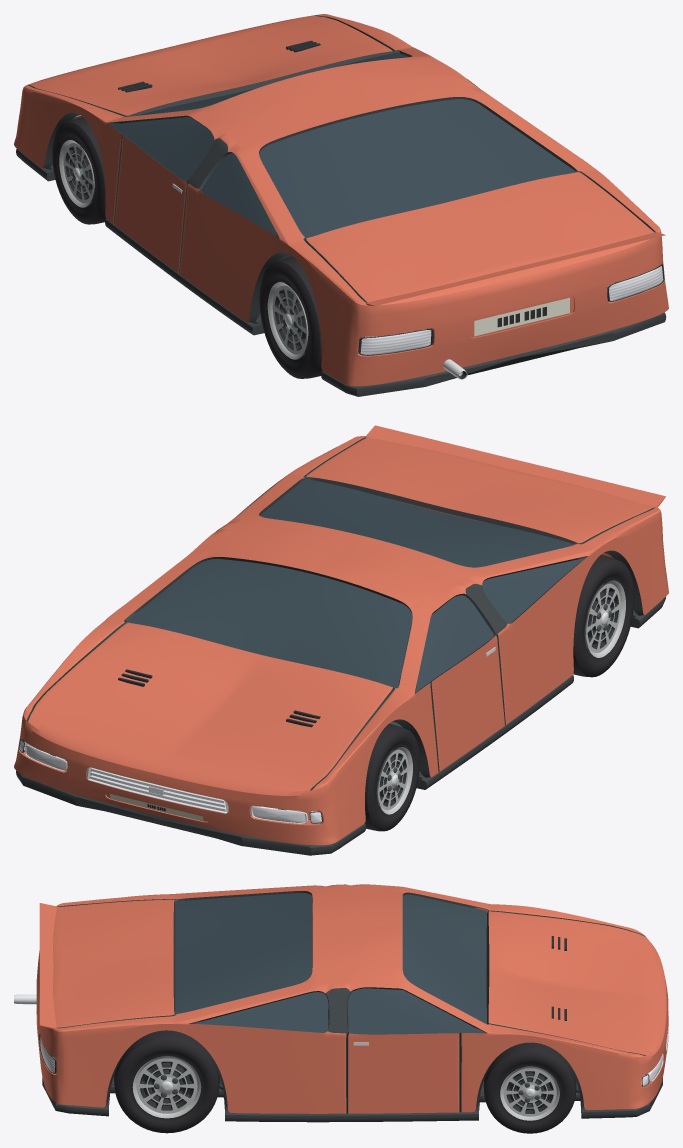
Rendered from forge_closed_supercar.fbx.
The picture shows the model from 3 angles, top to bottom: view 1: azimuth 30°, elevation 25°; view 2: azimuth 150°, elevation 25°; view 3: azimuth 270°, elevation 25°; orthographic projection. The views are drawn at different scales.
Visible parts, largest first — view 1: Body, Wheel_RL_Mesh, Wheel_FL_Mesh; view 2: Body, Wheel_RL_Mesh, Wheel_FL_Mesh; view 3: Body, Wheel_RR_Mesh, Wheel_FR_Mesh.
Boxes of the visible parts, <box> form: Body: <box>14,14,668,396</box>; Wheel_RL_Mesh: <box>259,256,322,378</box>; Wheel_FL_Mesh: <box>52,117,117,224</box>; Body: <box>14,425,668,855</box>; Wheel_RL_Mesh: <box>573,554,634,677</box>; Wheel_FL_Mesh: <box>364,723,419,831</box>; Body: <box>14,884,668,1122</box>; Wheel_RR_Mesh: <box>114,1030,219,1133</box>; Wheel_FR_Mesh: <box>483,1042,576,1133</box>.
Size of the model in its own units: 192 by 92.68 by 387.
